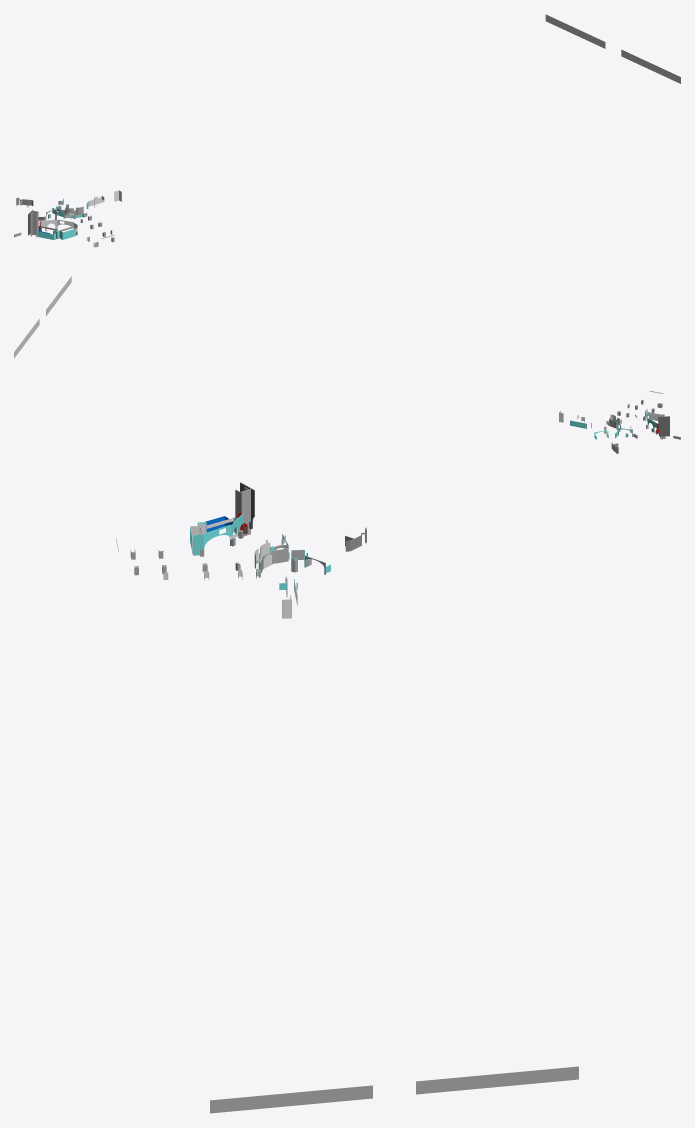
File: 1253_AR_AFP_BASE BUILDING_MASTER_malfredMXUZG_1AdpURx9v8fxrfh$v1S7UQ-LEVEL GROUND (EX STATION ENTRY)_IfcWallStandardCase.dae
The picture shows the model from 3 angles, top to bottom: view 1: azimuth 30°, elevation 25°; view 2: azimuth 150°, elevation 25°; view 3: azimuth 270°, elevation 25°; orthographic projection. The views are drawn at different scales.
Parts seen in each view (by area): view 1: 184ewZuW18UORMZ1VNAdfZ; view 2: 184ewZuW18UORMZ1VNAdfZ; view 3: 184ewZuW18UORMZ1VNAdfZ.
Boxes of the visible parts, x1,y1,x2,y2 form: 184ewZuW18UORMZ1VNAdfZ: (545, 14, 680, 83); 184ewZuW18UORMZ1VNAdfZ: (14, 276, 71, 358); 184ewZuW18UORMZ1VNAdfZ: (210, 1066, 578, 1113).
Bounding box in the file's own units: 336 × 109 × 11.74.
